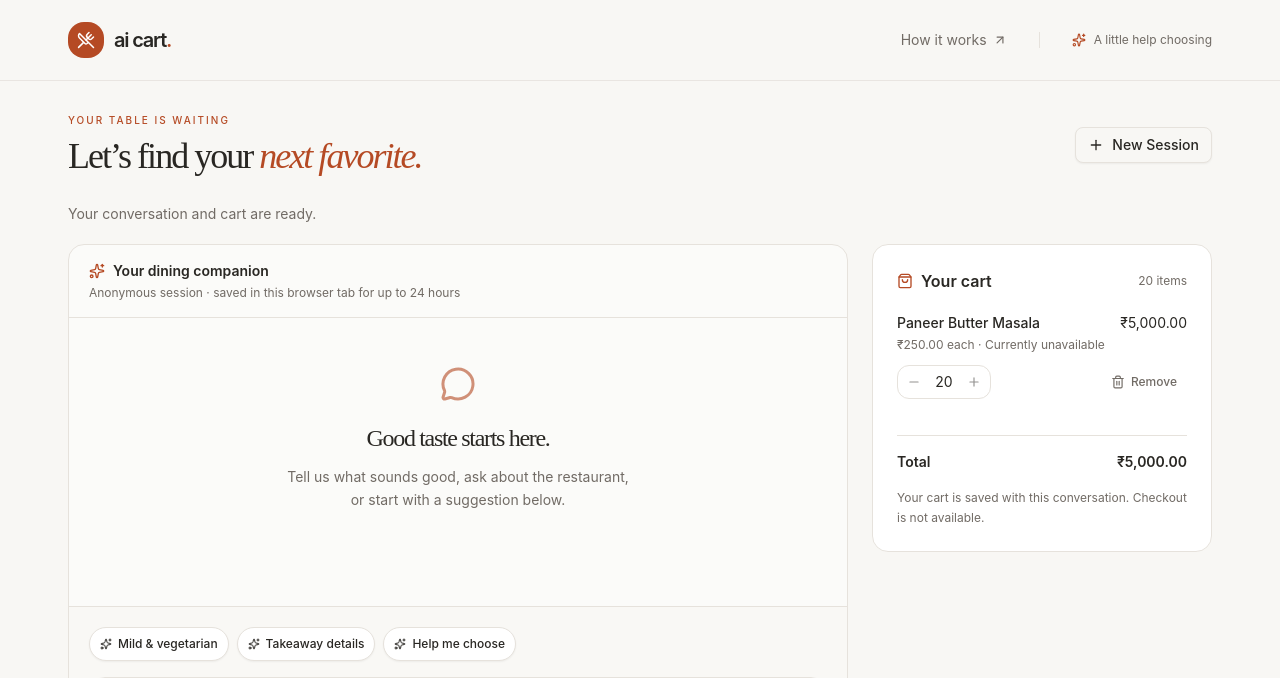
it: live chat and manual cart UI › allows removal of an unavailable dish while preventing positive quantity changes
The image size is (1280, 678).
Expected: the button named "Increase Paneer Butter Masala" is disabled, x1=958 y1=366 x2=990 y2=398
Expected: the button named "Decrease Paneer Butter Masala" is disabled, x1=898 y1=366 x2=930 y2=398
Click the button named "Remove Paneer Butter Masala".
click(1144, 382)  # box x1=1101 y1=366 x2=1187 y2=398
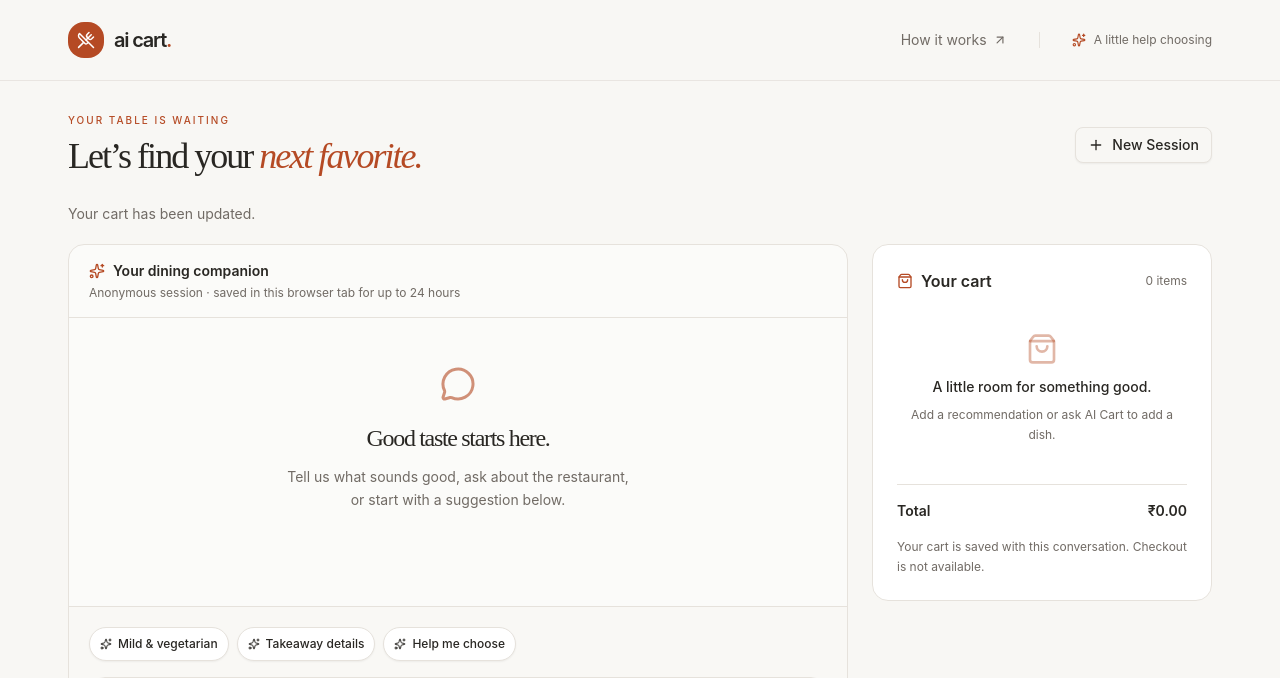
Result: the text "Your cart has been updated." is shown at x1=68 y1=205 x2=255 y2=222
